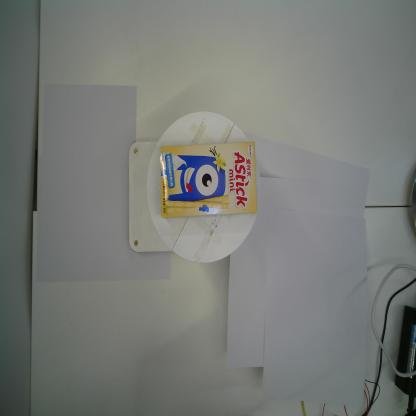Dessert: (158, 141, 258, 218)
